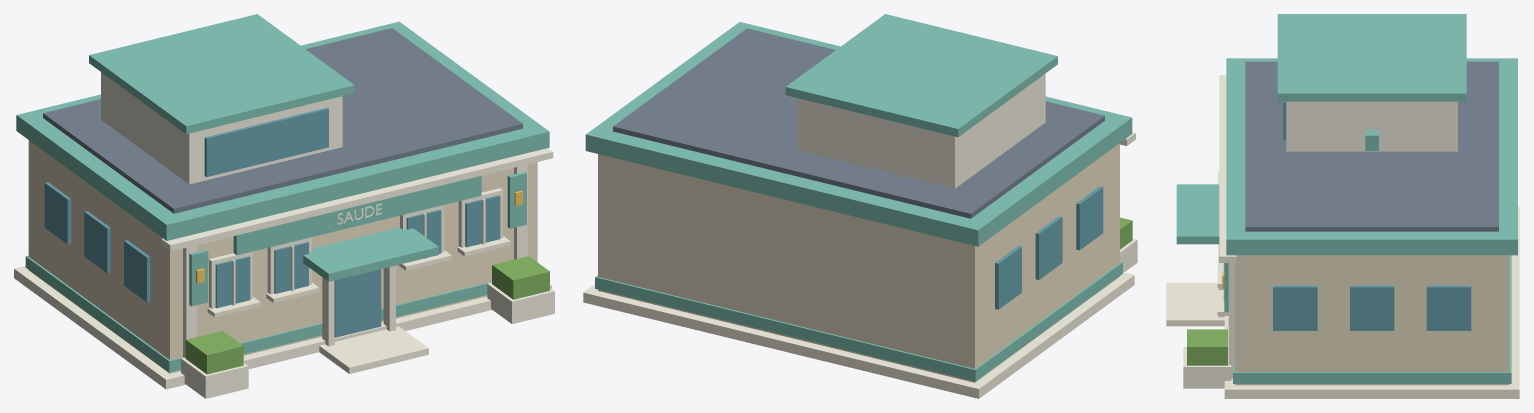
File: saude.glb
3 views of the same model, side by side, from view 1: azimuth 30°, elevation 25°; view 2: azimuth 150°, elevation 25°; view 3: azimuth 270°, elevation 25° (orthographic). The views are drawn at different scales.
Visible parts, largest first — view 1: Foundation; view 2: Foundation; view 3: Foundation.
Part boxes in pixels (x1,y1,x2,y2): Foundation: (14,14,554,398); Foundation: (583,14,1137,398); Foundation: (1166,14,1519,398).
Size of the model in its own units: 12.6 by 7.22 by 10.3.
